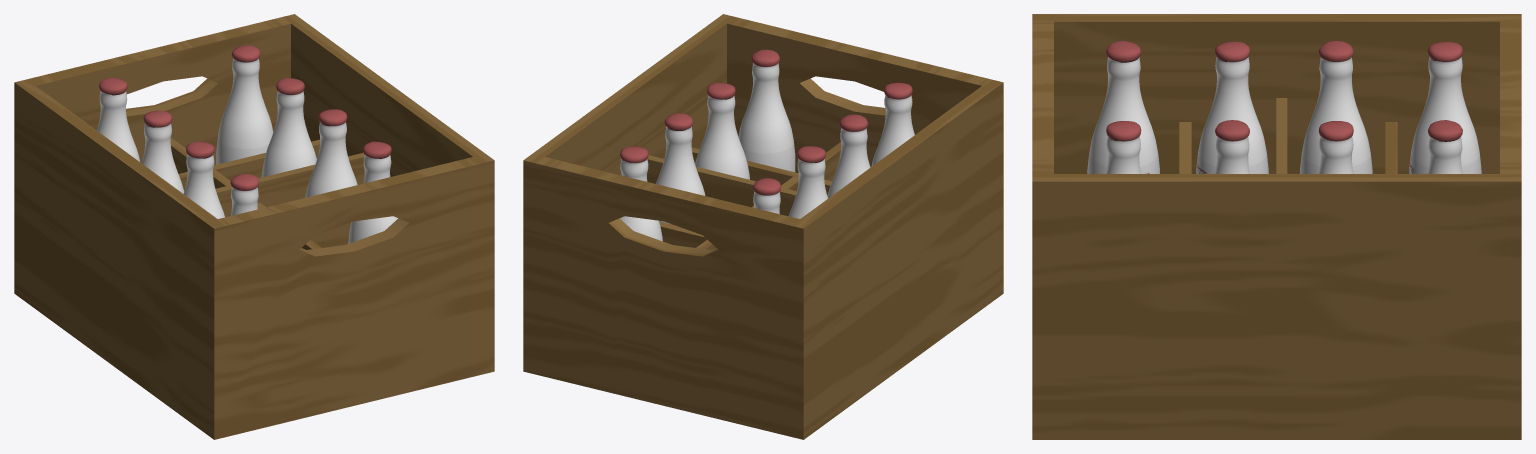
File: BottleCase.fbx
3 views of the same model, side by side, from view 1: azimuth 30°, elevation 25°; view 2: azimuth 150°, elevation 25°; view 3: azimuth 270°, elevation 25° (orthographic). The views are drawn at different scales.
Parts seen in each view (by area): view 1: BottleBasket1, Bottle12, Bottle10, Bottle7, Bottle13, Bottle11, Bottle6, Bottle8, Bottle9; view 2: BottleBasket1, Bottle8, Bottle7, Bottle10, Bottle9, Bottle6, Bottle11, Bottle12, Bottle13; view 3: BottleBasket1, Bottle6, Bottle13, Bottle9, Bottle11, Bottle10, Bottle8, Bottle7, Bottle12.
Boxes of the visible parts, left/top/right/bottom form: BottleBasket1: left=14, top=14, right=494, bottom=439; Bottle12: left=216, top=45, right=273, bottom=164; Bottle10: left=261, top=78, right=316, bottom=177; Bottle7: left=305, top=109, right=357, bottom=197; Bottle13: left=96, top=77, right=139, bottom=161; Bottle11: left=141, top=110, right=184, bottom=193; Bottle6: left=184, top=141, right=224, bottom=218; Bottle8: left=348, top=141, right=397, bottom=243; Bottle9: left=230, top=173, right=258, bottom=215; BottleBasket1: left=523, top=14, right=1003, bottom=439; Bottle8: left=738, top=49, right=795, bottom=172; Bottle7: left=695, top=82, right=749, bottom=179; Bottle10: left=656, top=113, right=705, bottom=224; Bottle9: left=871, top=82, right=914, bottom=166; Bottle6: left=827, top=114, right=870, bottom=198; Bottle11: left=788, top=146, right=827, bottom=218; Bottle12: left=620, top=146, right=662, bottom=241; Bottle13: left=752, top=178, right=781, bottom=214; BottleBasket1: left=1032, top=14, right=1521, bottom=439; Bottle6: left=1196, top=41, right=1268, bottom=173; Bottle13: left=1409, top=41, right=1481, bottom=173; Bottle9: left=1087, top=40, right=1159, bottom=173; Bottle11: left=1300, top=41, right=1372, bottom=173; Bottle10: left=1318, top=121, right=1353, bottom=173; Bottle8: left=1106, top=121, right=1141, bottom=173; Bottle7: left=1215, top=120, right=1249, bottom=173; Bottle12: left=1428, top=120, right=1462, bottom=173.
Bounding box in the file's own units: 1 × 0.7452 × 1.24.
3 materials, 2 textured.
